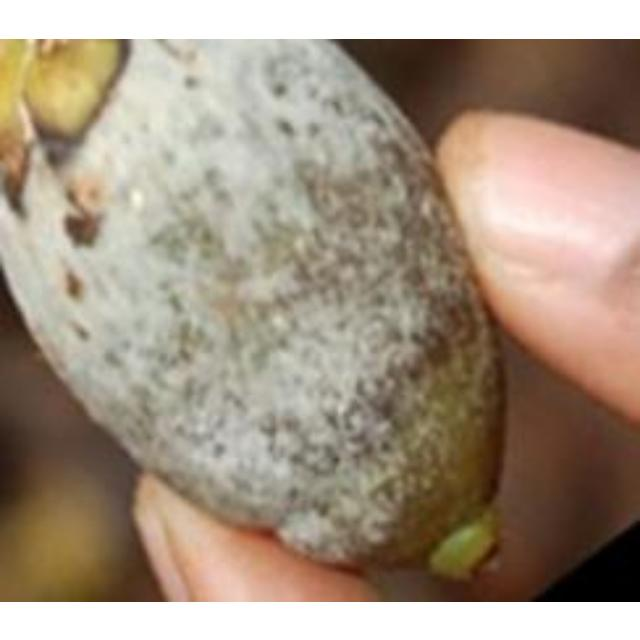damaged: (0, 38, 506, 599)
